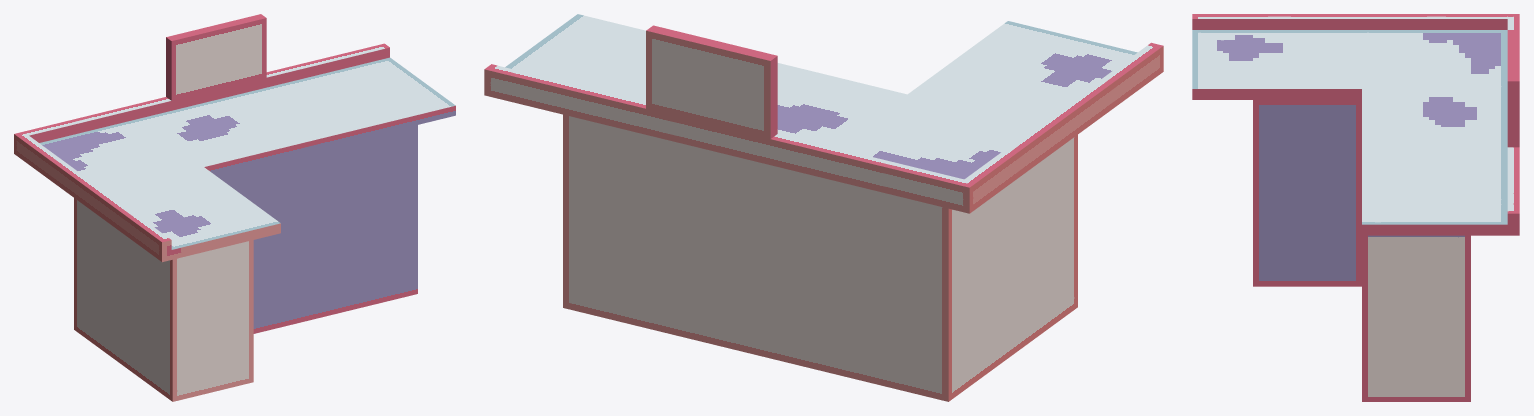
Rendered from cash_desk.gltf.
3 views of the same model, side by side, from view 1: azimuth 30°, elevation 25°; view 2: azimuth 150°, elevation 25°; view 3: azimuth 270°, elevation 25° (orthographic). The views are drawn at different scales.
Parts seen in each view (by area): view 1: cuboid; view 2: cuboid; view 3: cuboid.
Boxes of the visible parts, box(x1,y1,x2,y2) form: cuboid: box(14, 14, 455, 401); cuboid: box(484, 14, 1163, 401); cuboid: box(1192, 14, 1519, 401).
Size of the model in its own units: 2.44 by 1.56 by 1.69.
Materials: 1 (1 with a texture image).
